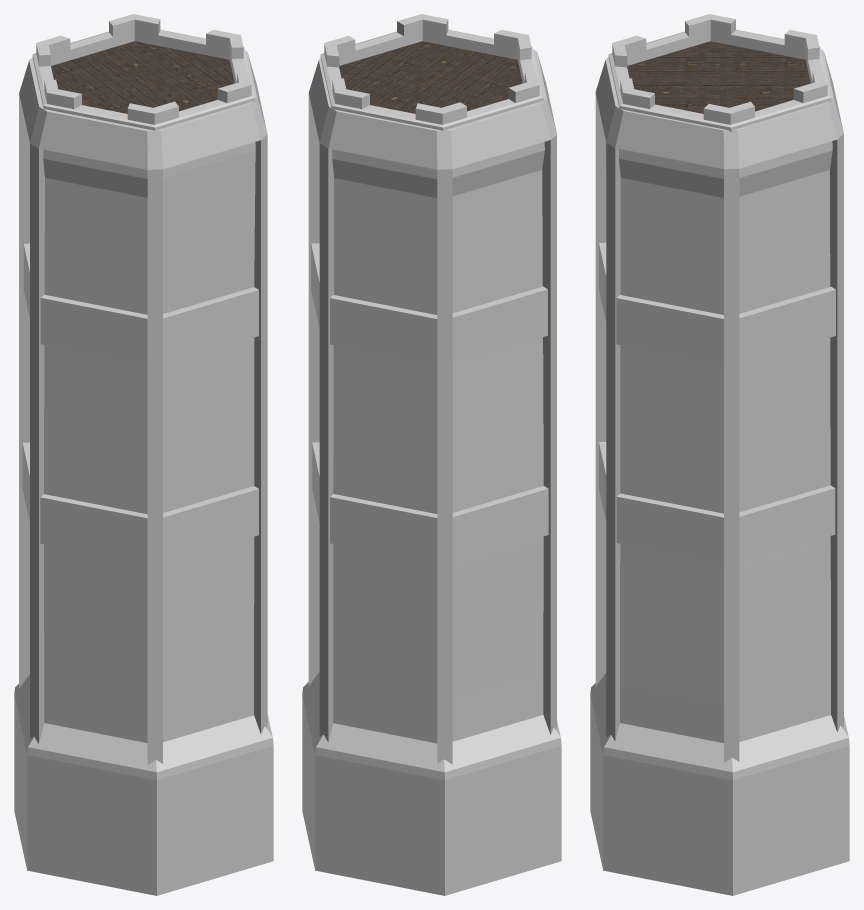
File: Tower-2.fbx
The picture shows the model from 3 angles, left to right: view 1: azimuth 30°, elevation 25°; view 2: azimuth 150°, elevation 25°; view 3: azimuth 270°, elevation 25°; orthographic projection.
Parts seen in each view (by area): view 1: Veza6HranTypA; view 2: Veza6HranTypA; view 3: Veza6HranTypA.
Part boxes in pixels (x1,y1,x2,y2): Veza6HranTypA: [14, 14, 273, 895]; Veza6HranTypA: [302, 14, 561, 895]; Veza6HranTypA: [590, 14, 849, 895].
Bounding box in the file's own units: 1681 × 5032 × 1532.
